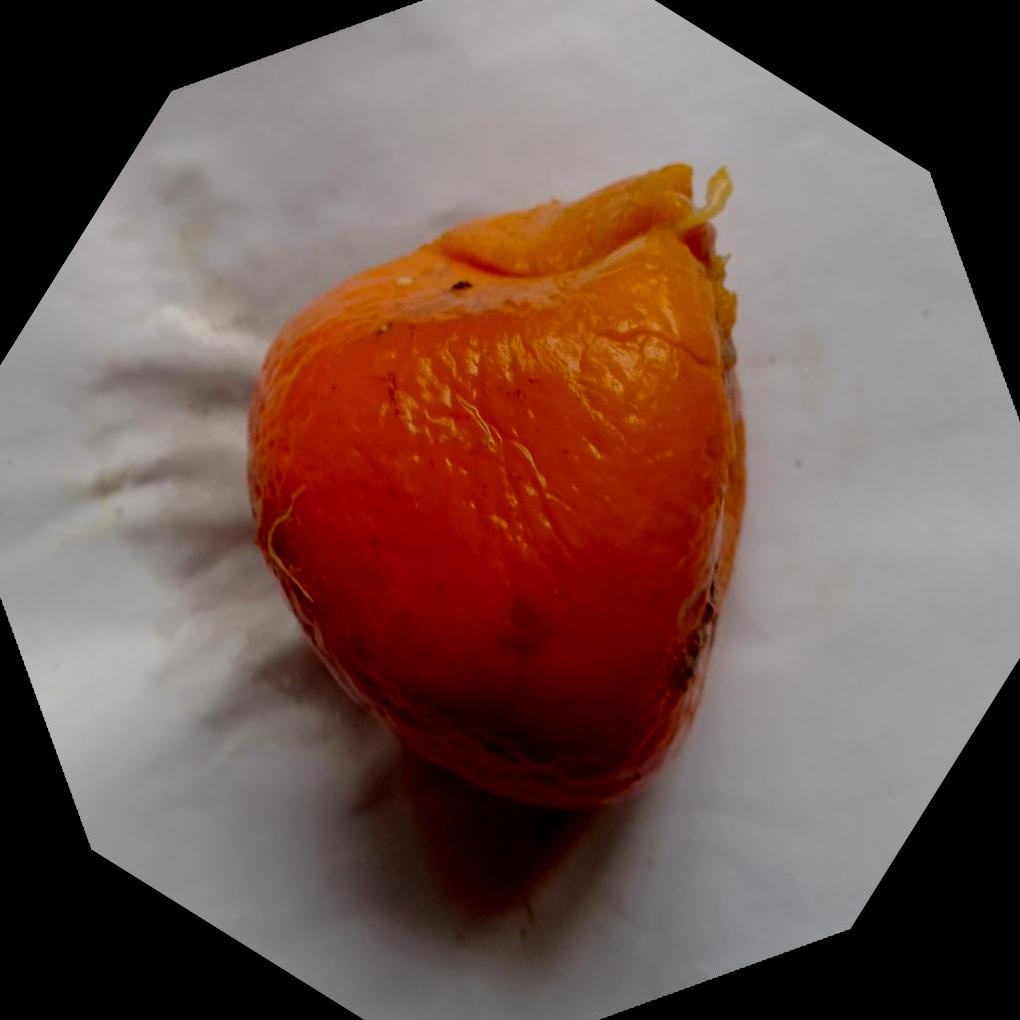FreshOrange: (245, 162, 748, 815)
